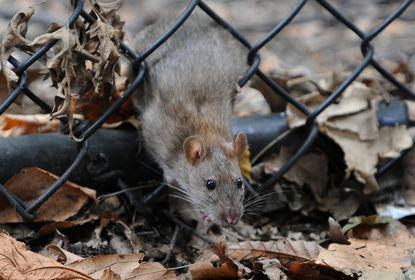rat: (128, 13, 250, 226)
